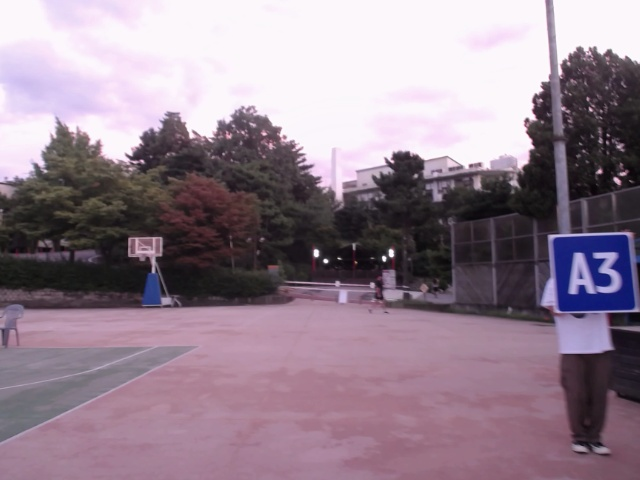delivery_a3: (551, 233, 637, 313)
